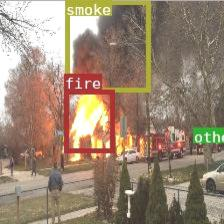fire: (64, 90, 114, 153)
smoke: (64, 0, 150, 91)
